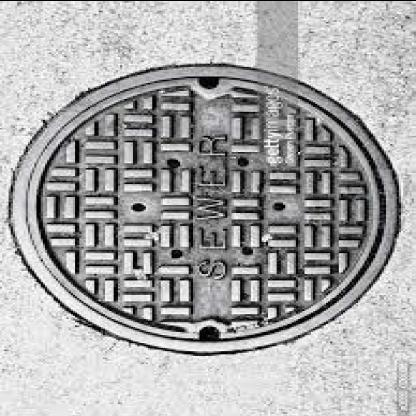manholes: (2, 35, 416, 370)
